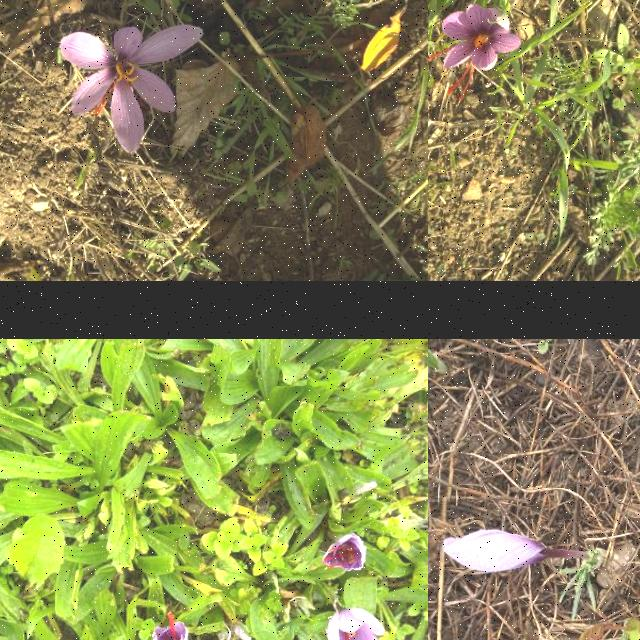flower: (60, 24, 204, 154), (428, 3, 522, 101), (444, 530, 558, 574), (326, 611, 385, 640), (324, 534, 368, 572), (153, 613, 190, 640)
